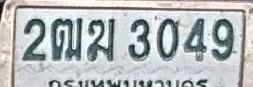0: (156, 18, 180, 60)
2: (22, 17, 46, 61)
3: (128, 18, 150, 60)
4: (184, 17, 206, 61)
9: (212, 18, 234, 60)
A06: (86, 18, 116, 60)
A18: (50, 17, 83, 61)
